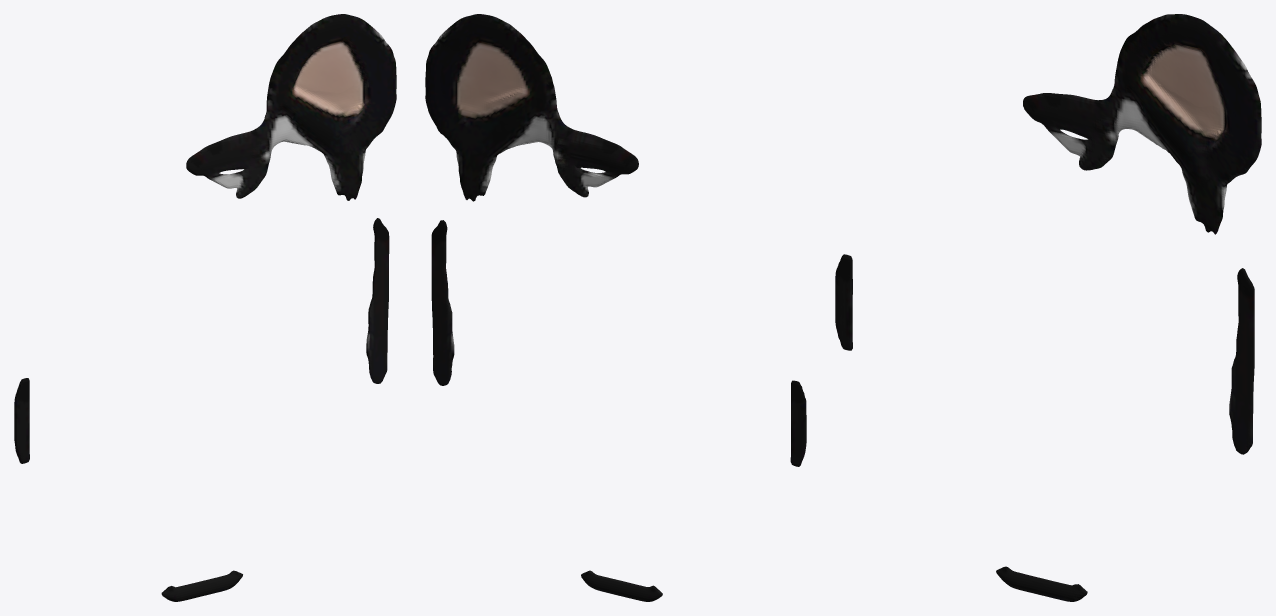
The model's file is potion_empty.glb.
The picture shows the model from 3 angles, left to right: view 1: azimuth 30°, elevation 25°; view 2: azimuth 150°, elevation 25°; view 3: azimuth 330°, elevation 25°; orthographic projection. The views are drawn at different scales.
Visible parts, largest first — view 1: geometry_0; view 2: geometry_0; view 3: geometry_0.
Part boxes in pixels (left/top/right/bottom): geometry_0: left=14, top=14, right=396, bottom=601; geometry_0: left=425, top=14, right=806, bottom=601; geometry_0: left=835, top=14, right=1261, bottom=601.
Size of the model in its own units: 0.3641 by 0.5 by 0.00916.
